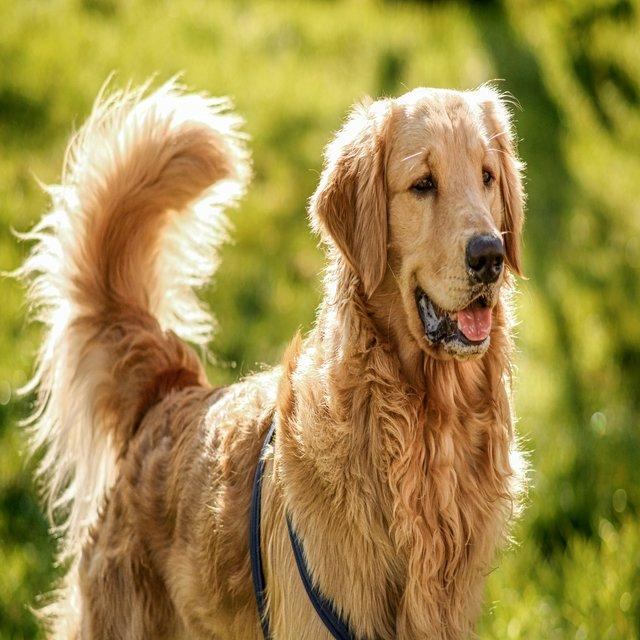retriever: (6, 69, 533, 638)
